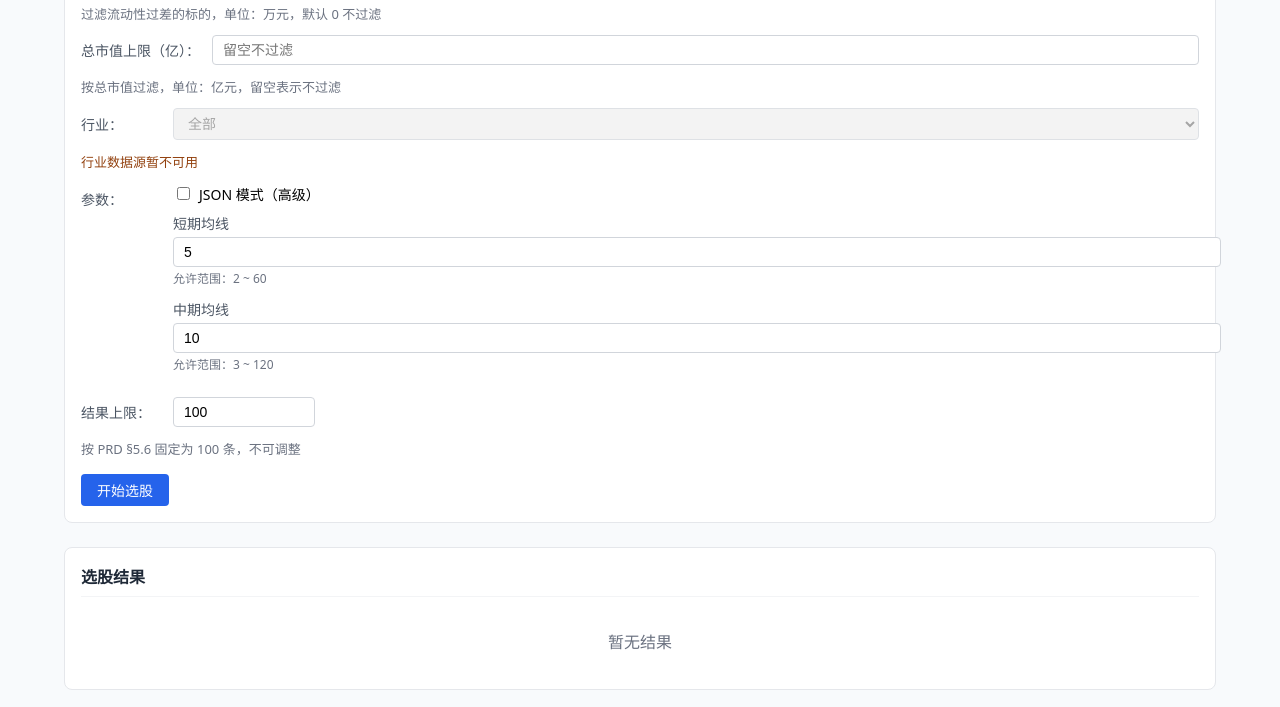
Scenario: F-S4 · 批量加入候选池（复用 T56 的批量接口） › 批量结果回显「已加入 N 只 / 跳过 M 只」
(page scrolled)
Click the button "开始选股": (125, 490) [81,474,169,506]
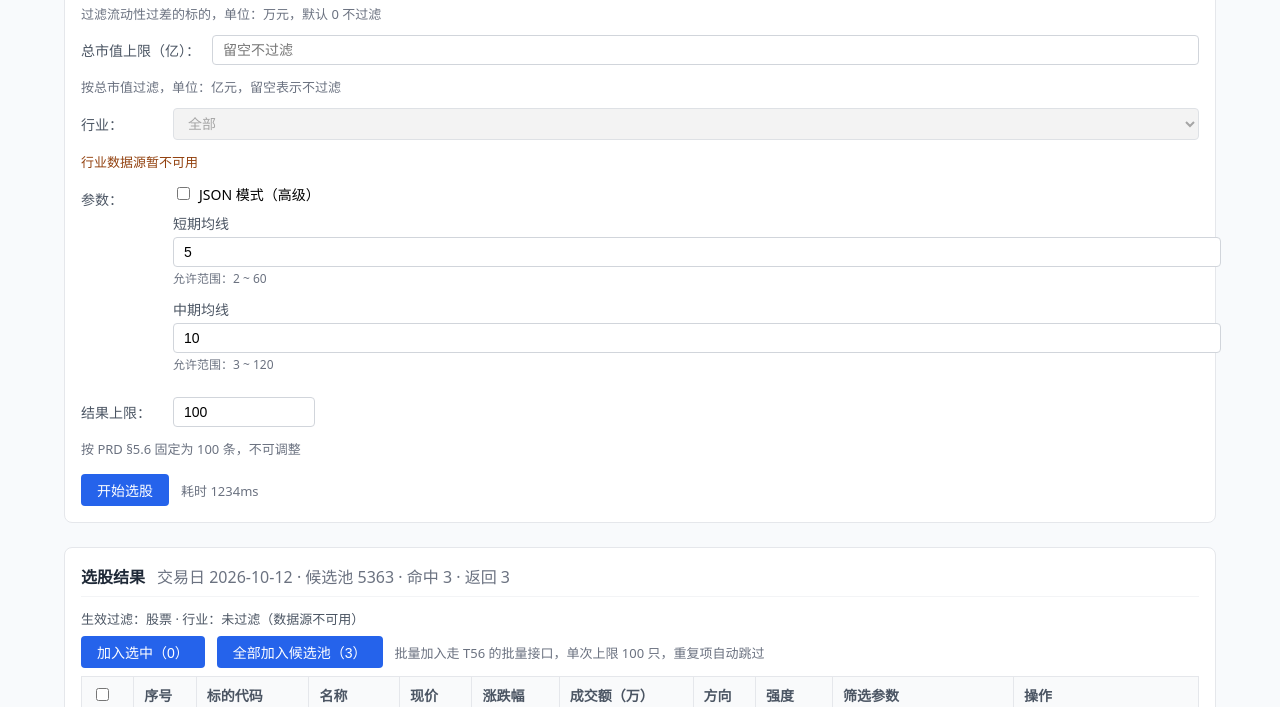
Click the button "全部加入候选池（3）": (300, 652) [217,636,383,668]
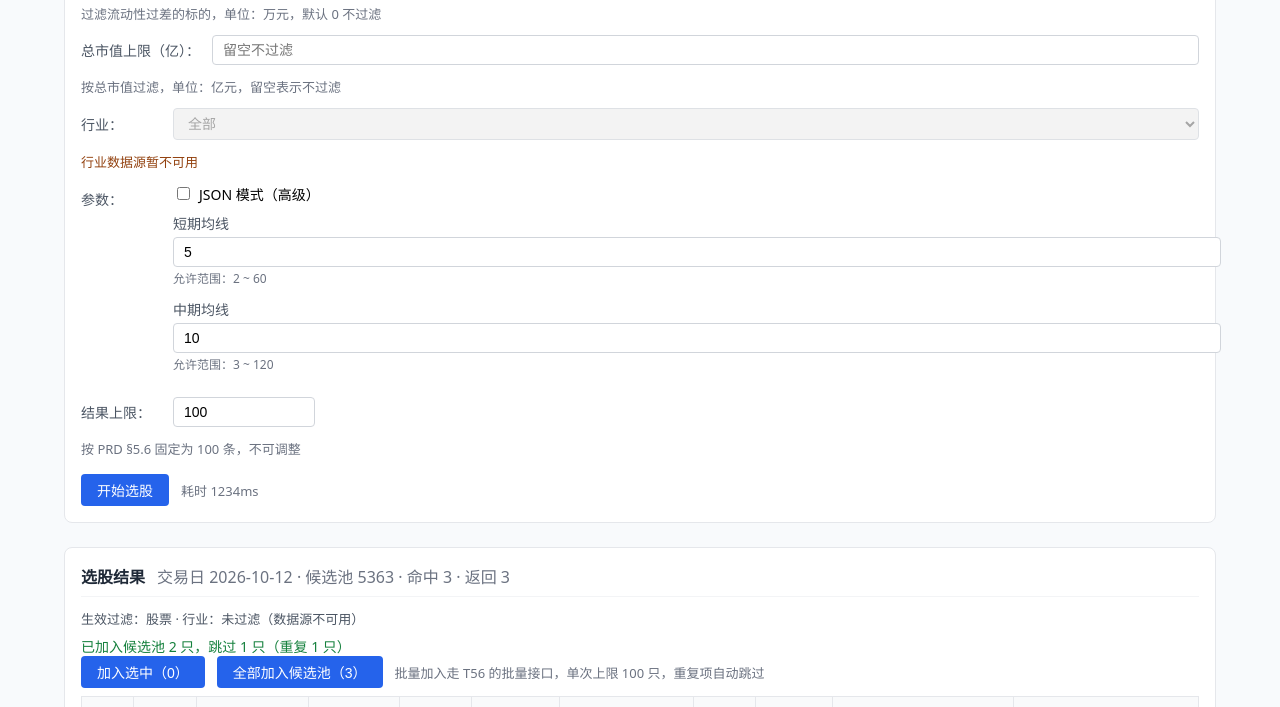
Result: the text "已加入候选池 2 只，跳过 1 只（重复 1 只）" is shown at [81,637,351,656]
